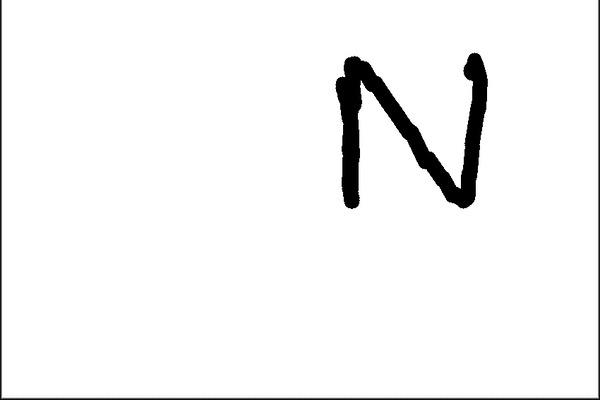N: (328, 47, 490, 216)
